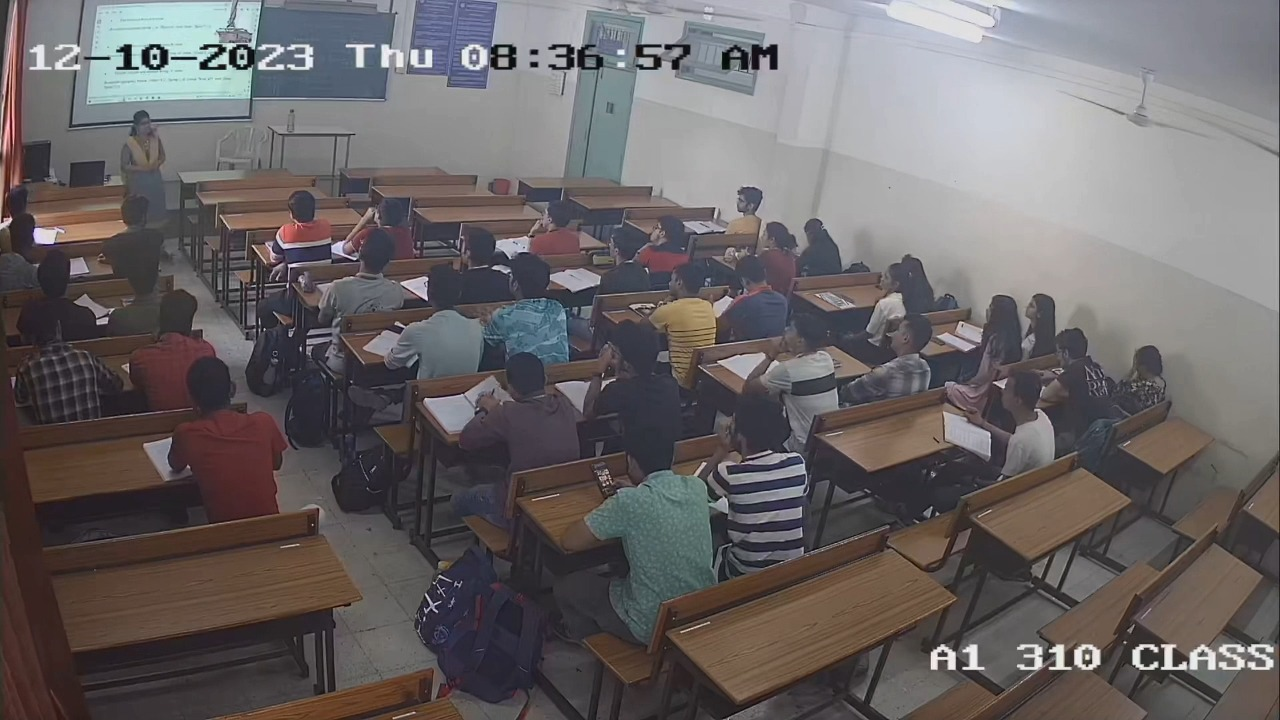cell-phones: (589, 459, 619, 498), (590, 252, 615, 268), (382, 322, 406, 335), (928, 334, 945, 348)
person: (557, 422, 717, 598), (385, 262, 483, 385), (974, 294, 1022, 371), (595, 230, 653, 293)
